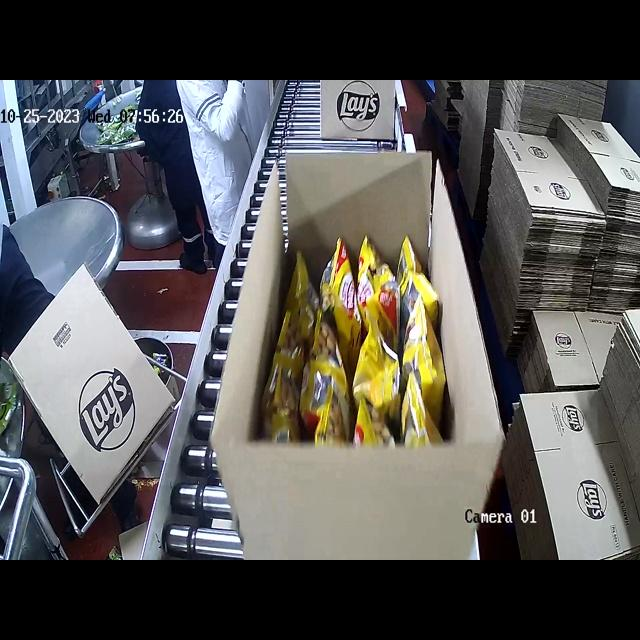salted: (278, 242, 442, 480)
